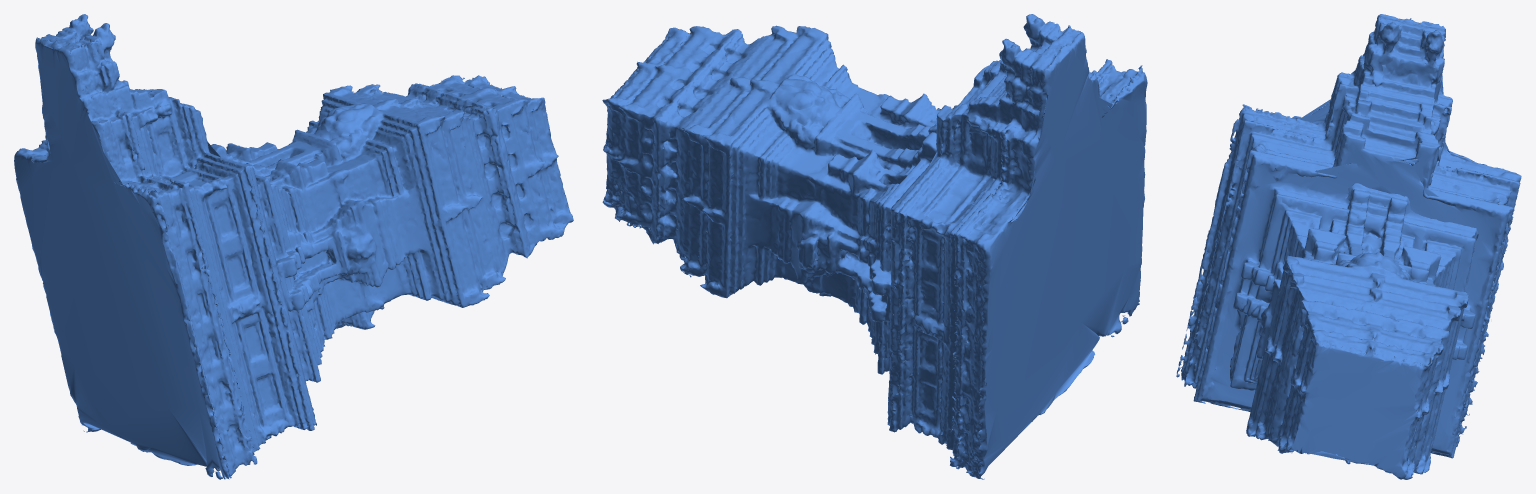
The model's file is candi semua.fbx.
The picture shows the model from 3 angles, left to right: view 1: azimuth 30°, elevation 25°; view 2: azimuth 150°, elevation 25°; view 3: azimuth 270°, elevation 25°; orthographic projection. The views are drawn at different scales.
Visible parts, largest first — view 1: Model; view 2: Model; view 3: Model.
Part boxes in pixels (<box>): Model: <box>14,14,573,479</box>; Model: <box>602,14,1147,479</box>; Model: <box>1176,14,1521,479</box>.
Bounding box in the file's own units: 11.56 × 7.99 × 10.45.
